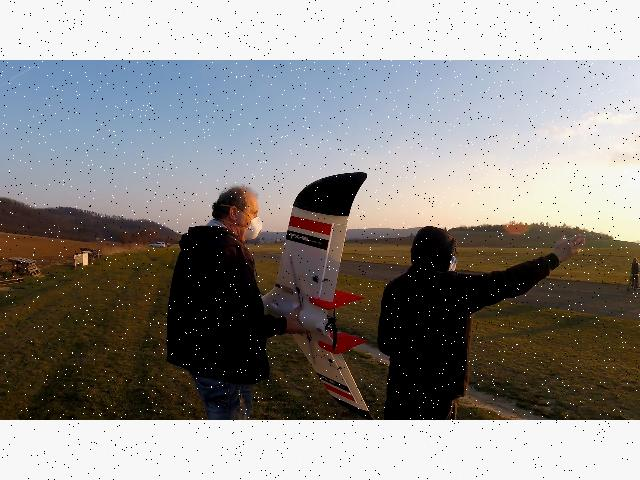Anti-Drone: (252, 161, 376, 415)
